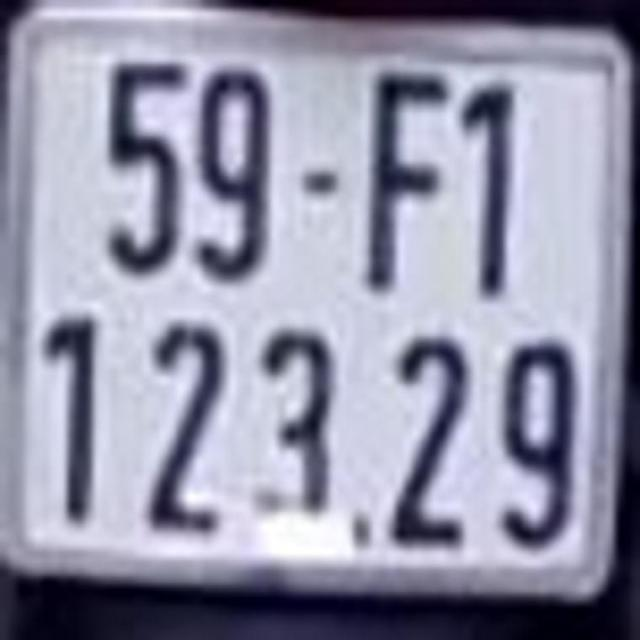1: (459, 69, 520, 304), (40, 310, 100, 524)
2: (389, 330, 471, 549), (143, 312, 222, 530)
3: (257, 323, 338, 552)
5: (99, 51, 192, 280)
9: (499, 324, 580, 558), (199, 55, 273, 283)
F: (361, 58, 452, 288)
